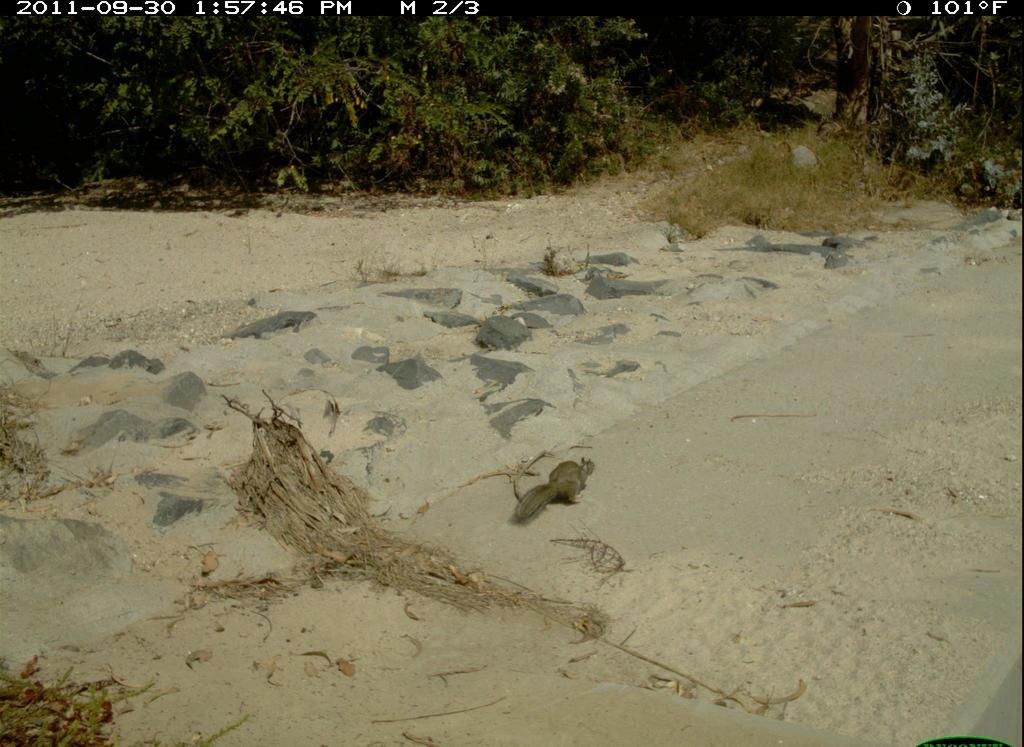squirrel: (504, 449, 612, 528)
